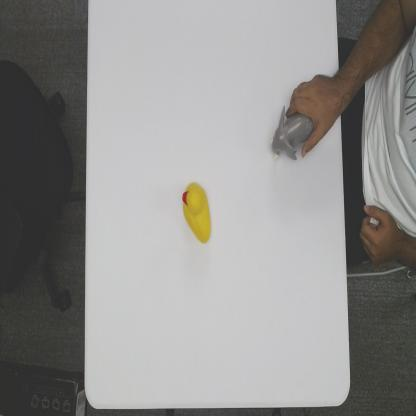Duck: (181, 181, 212, 244)
Elephant: (269, 102, 314, 164)
Hand: (285, 72, 339, 153)
